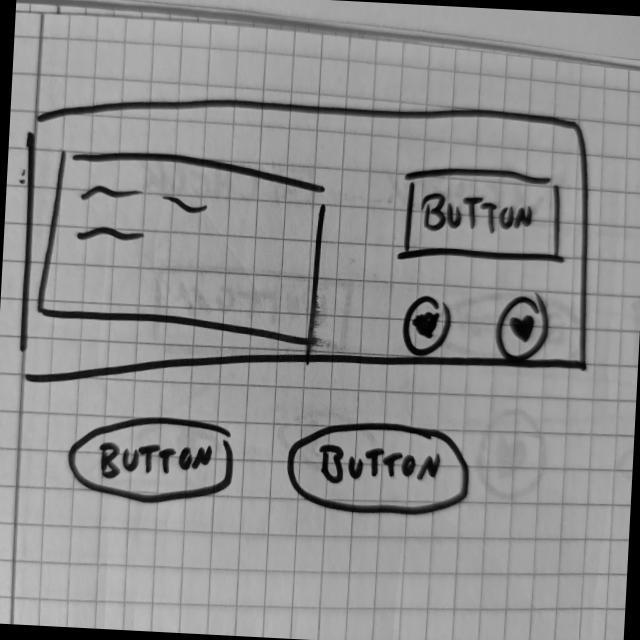button: (284, 417, 475, 521), (401, 162, 569, 270), (64, 413, 240, 512)
container: (12, 81, 606, 420)
icon-button: (495, 290, 555, 363), (400, 294, 459, 360)
textarea: (36, 145, 330, 350)
